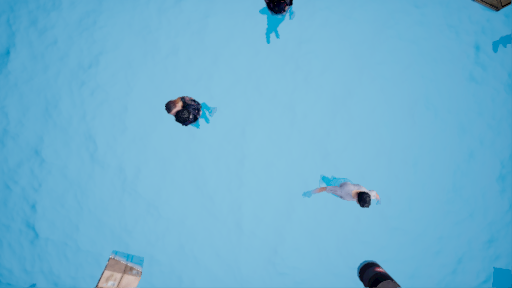person: (299, 171, 389, 212), (162, 94, 216, 129)
